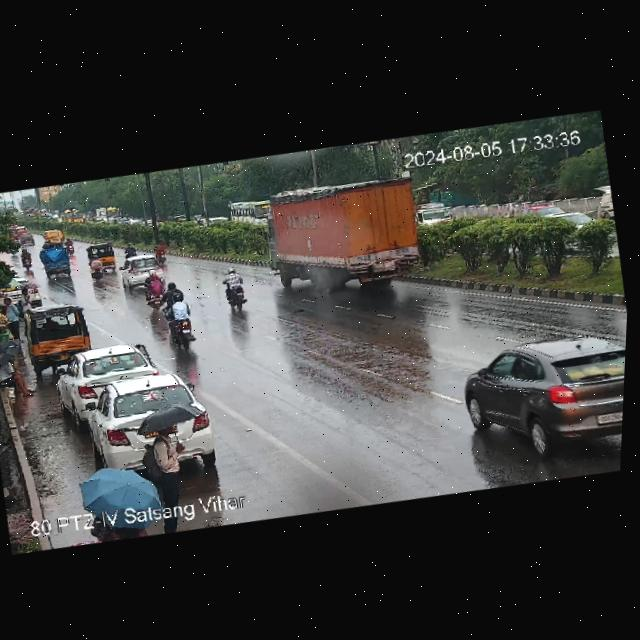bus: (227, 197, 280, 235)
car: (462, 332, 626, 463), (86, 366, 224, 477), (59, 341, 158, 401), (25, 301, 94, 367), (534, 206, 606, 251), (0, 269, 45, 311), (515, 198, 569, 226), (120, 254, 165, 284), (39, 244, 75, 278), (416, 204, 455, 234), (85, 240, 118, 274), (595, 185, 616, 222)
motorcycle: (160, 291, 200, 349), (219, 268, 252, 314), (145, 267, 170, 310)
person: (140, 414, 192, 531), (0, 345, 35, 407), (1, 296, 28, 347)
truck: (261, 169, 424, 301)
